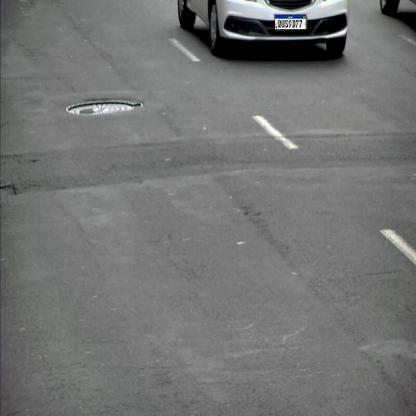PlacaM: (275, 14, 306, 30)
